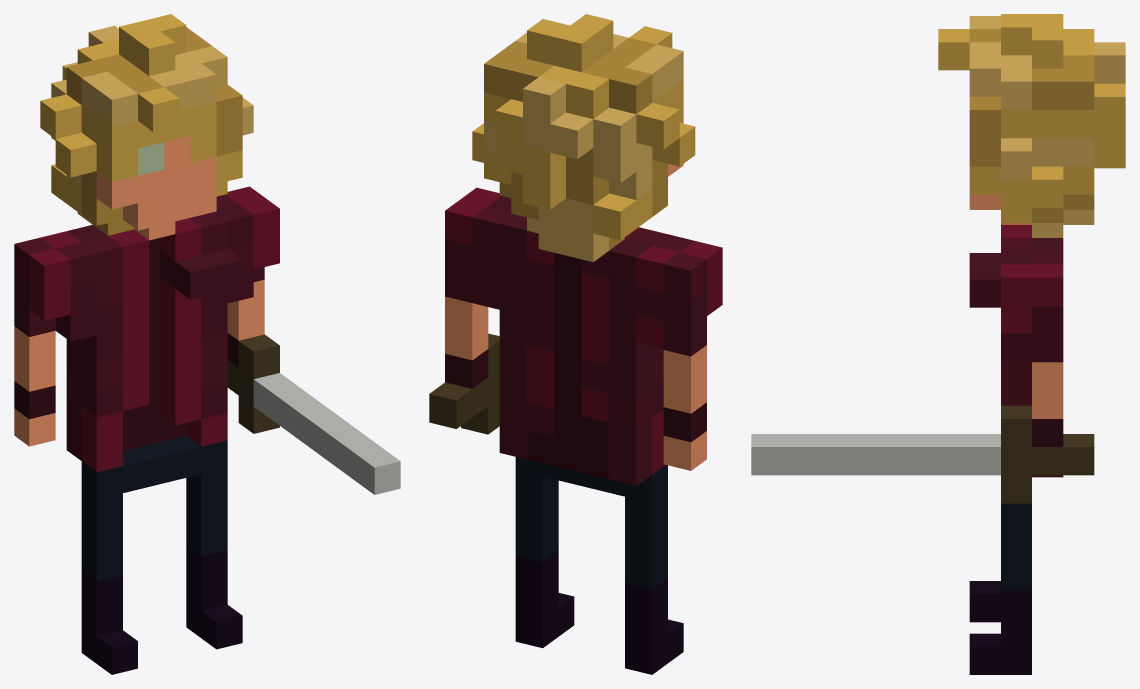
The model's file is SwingingBoyCharacter-0.obj.
3 views of the same model, side by side, from view 1: azimuth 30°, elevation 25°; view 2: azimuth 150°, elevation 25°; view 3: azimuth 270°, elevation 25° (orthographic). The views are drawn at different scales.
Parts seen in each view (by area): view 1: SwingingBoyCharacter-0; view 2: SwingingBoyCharacter-0; view 3: SwingingBoyCharacter-0.
Boxes of the visible parts, bbox=[...] form: SwingingBoyCharacter-0: bbox=[14, 14, 400, 674]; SwingingBoyCharacter-0: bbox=[429, 14, 722, 674]; SwingingBoyCharacter-0: bbox=[751, 14, 1125, 674].
Bounding box in the file's own units: 9 × 22 × 12.
1 material, 1 textured.
